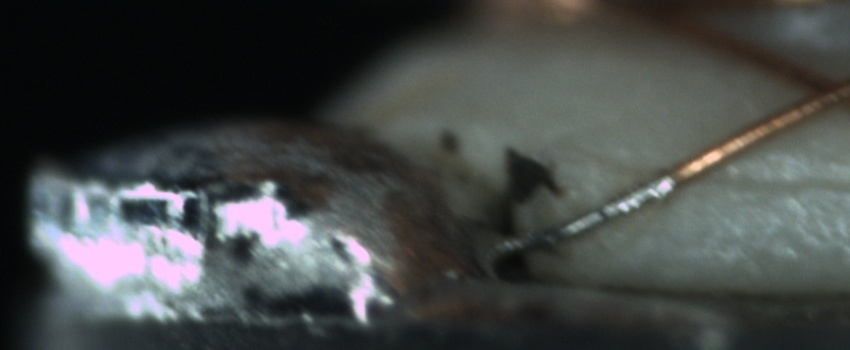CL: (779, 56, 850, 121)
DL: (684, 153, 849, 217)
TS: (501, 172, 678, 257)
TTCW: (490, 138, 738, 257)
